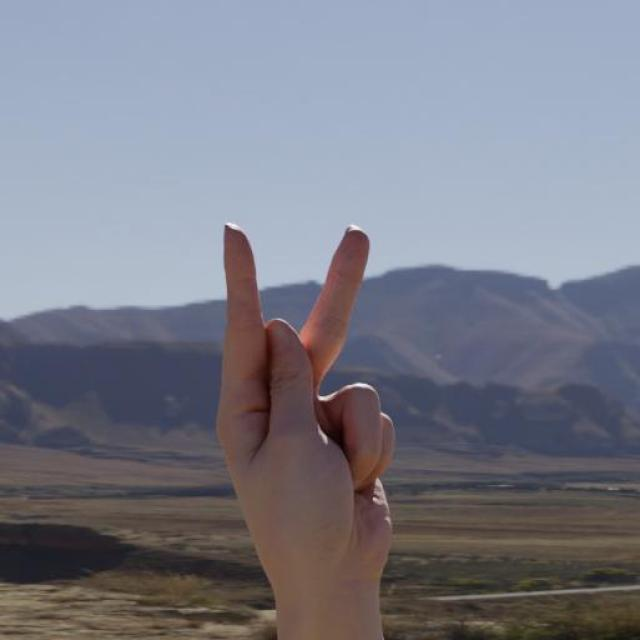K: (218, 218, 397, 592)
